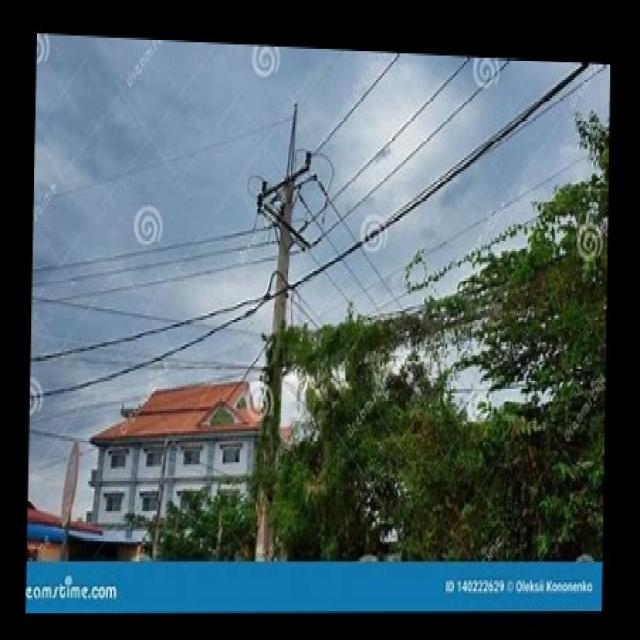critical vegetation: (286, 290, 604, 406)
